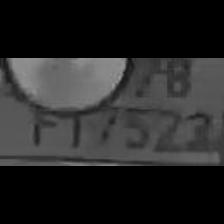2: (150, 104, 182, 154), (130, 58, 159, 97)
3: (179, 102, 213, 150)
4: (0, 58, 36, 104)
5: (116, 103, 152, 151)
7: (100, 58, 136, 100), (88, 106, 118, 148)
8: (161, 58, 193, 97)
P: (66, 58, 102, 102)
T: (57, 101, 89, 147)
